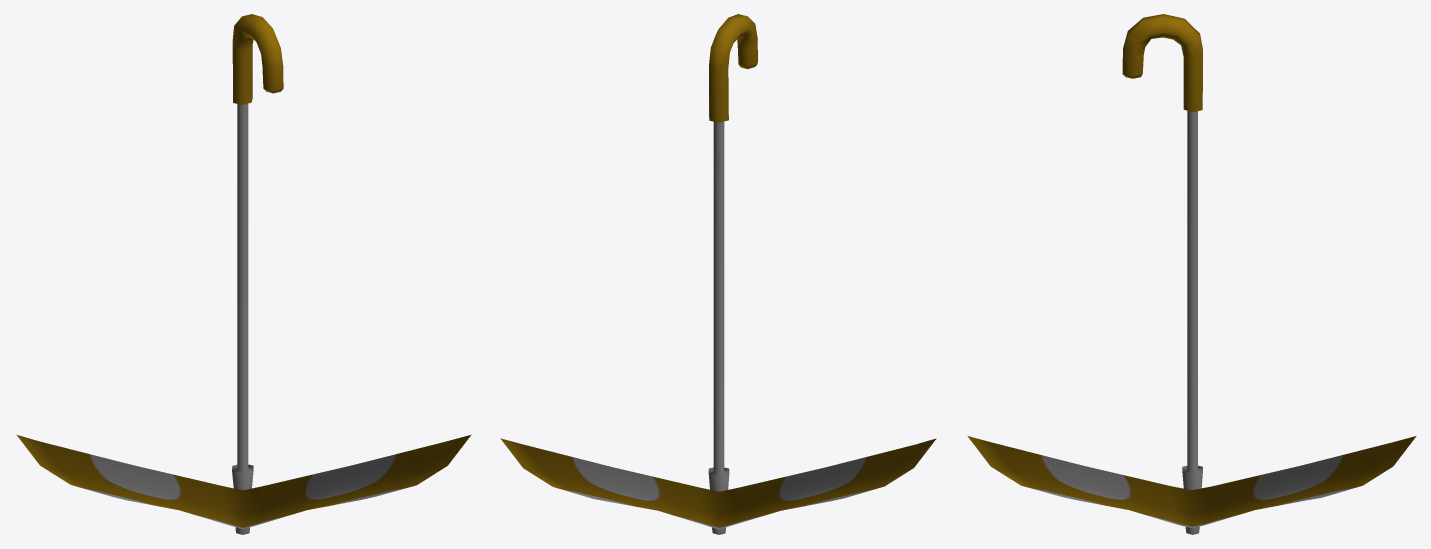
Rendered from UmbrellaPolkadot1.glb.
The picture shows the model from 3 angles, left to right: view 1: azimuth 30°, elevation 25°; view 2: azimuth 150°, elevation 25°; view 3: azimuth 270°, elevation 25°; orthographic projection. The views are drawn at different scales.
Visible parts, largest first — view 1: Pole__mUmbrella; view 2: Pole__mUmbrella; view 3: Pole__mUmbrella.
Boxes of the visible parts, <box> form: Pole__mUmbrella: <box>16,14,471,534</box>; Pole__mUmbrella: <box>500,14,936,534</box>; Pole__mUmbrella: <box>967,14,1416,534</box>.
Size of the model in its own units: 15.33 by 16.94 by 13.39.
1 material, 1 textured.
